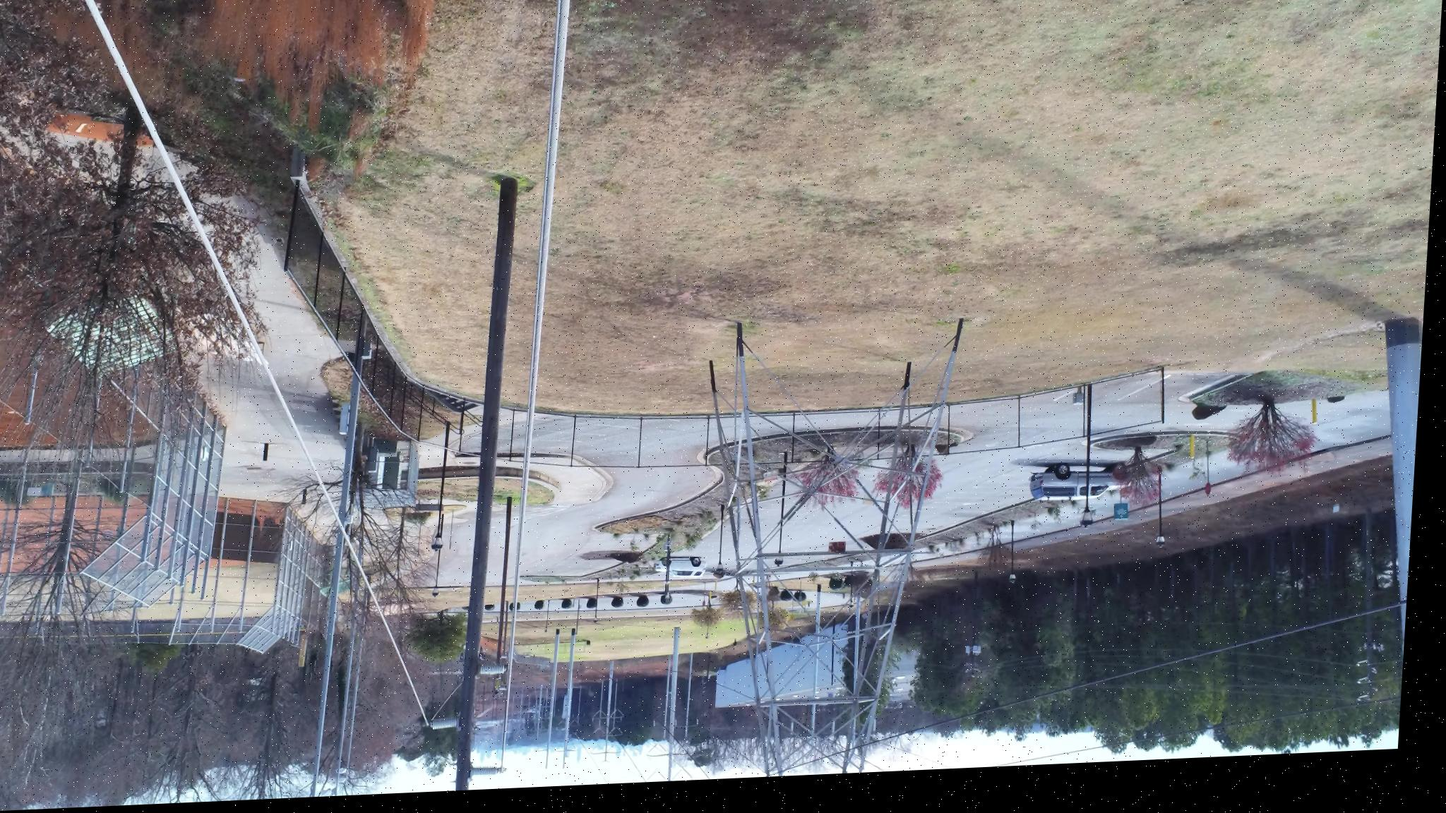tower: (679, 319, 969, 781)
